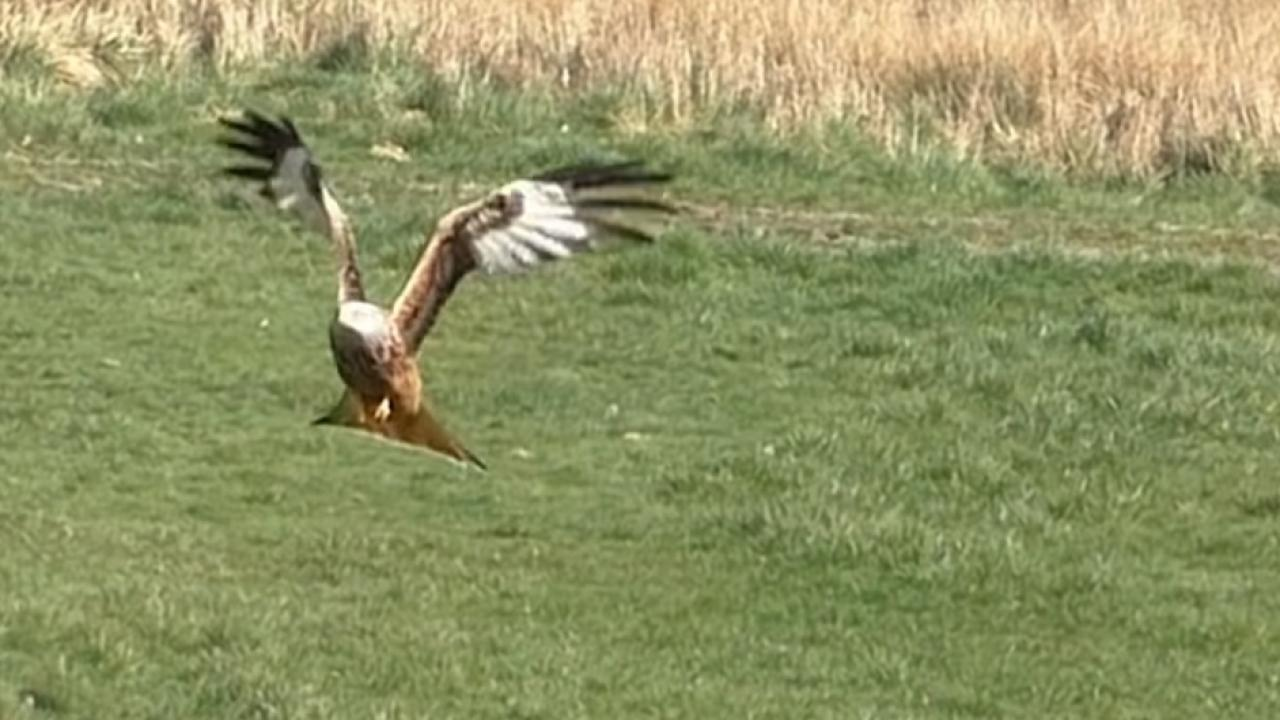Bird: (203, 96, 685, 482)
